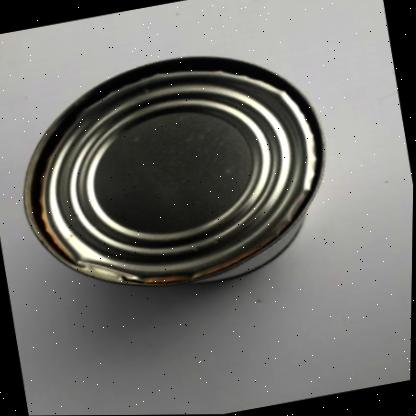Metal: (23, 57, 321, 287)
